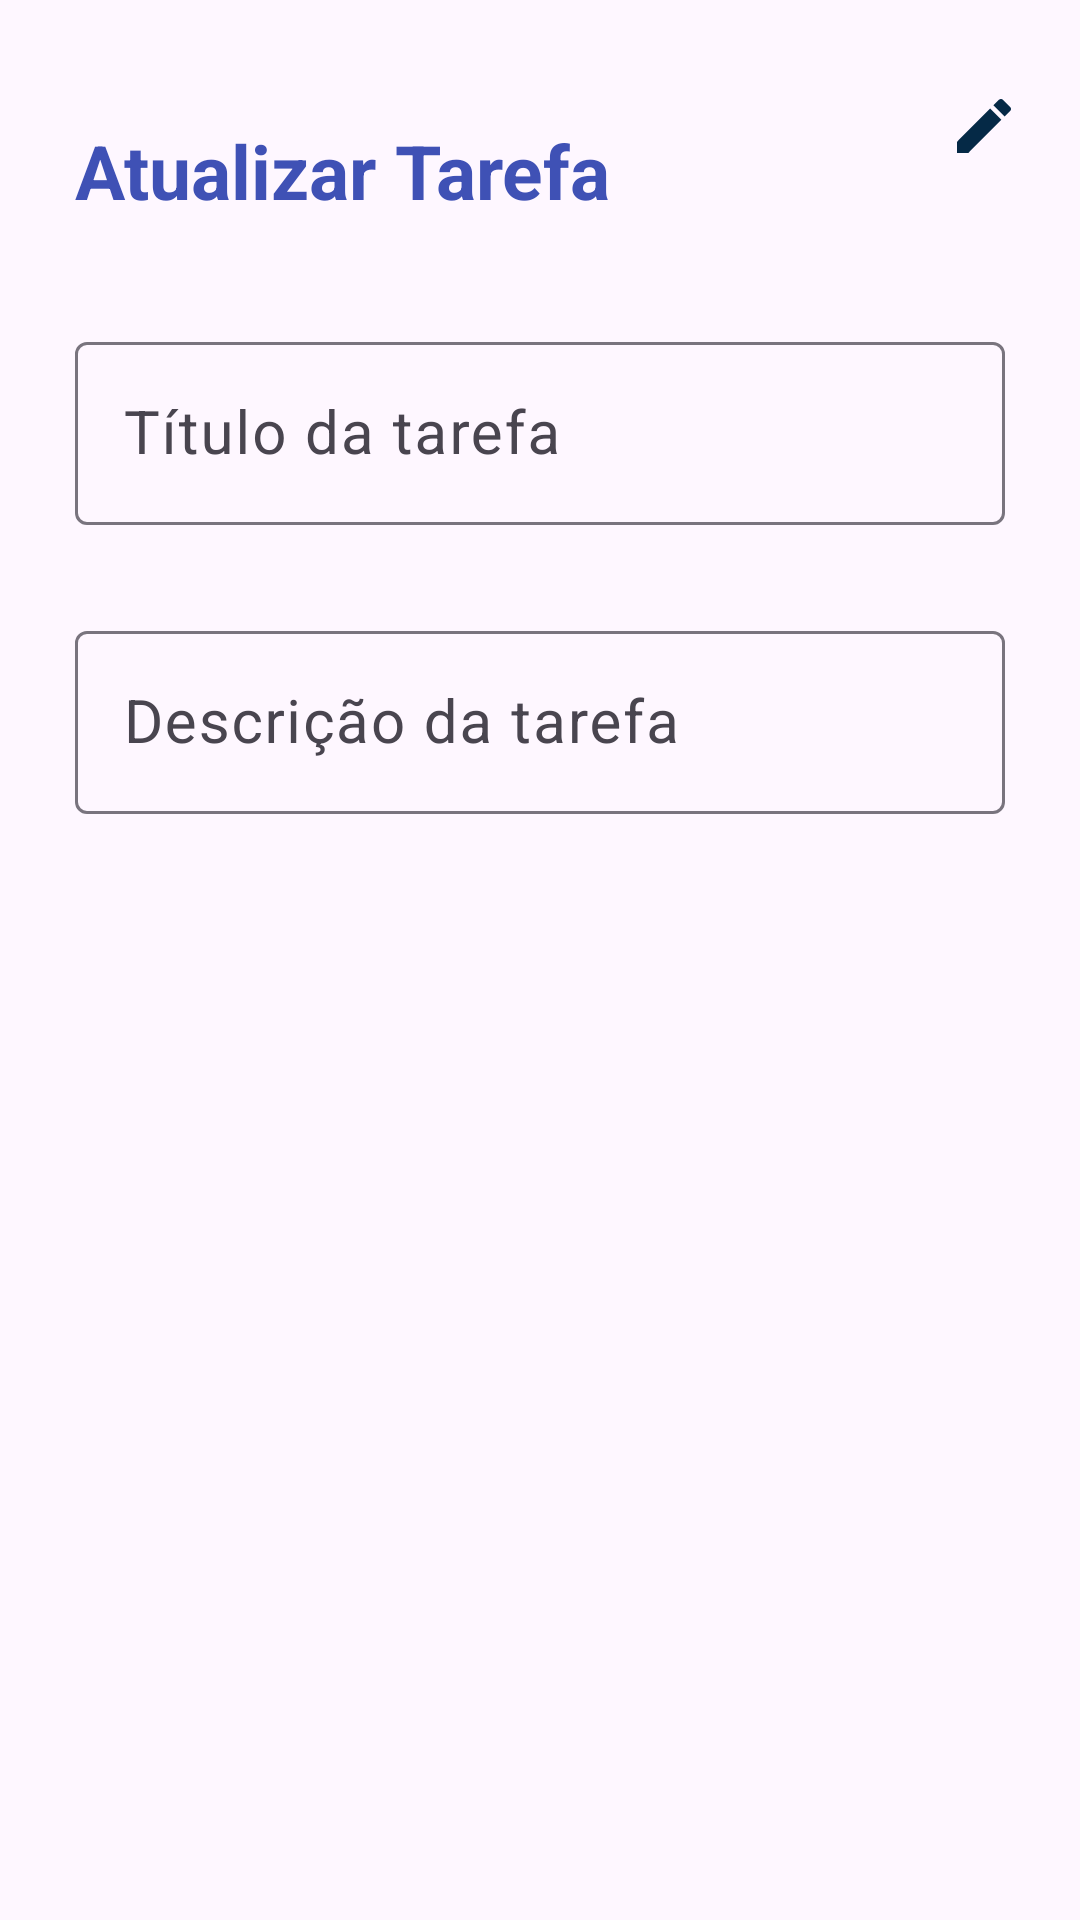

Icons on this 1080*1920 Android screen, each with the point to tap as point (x, y):
edittar: point (984, 126)
